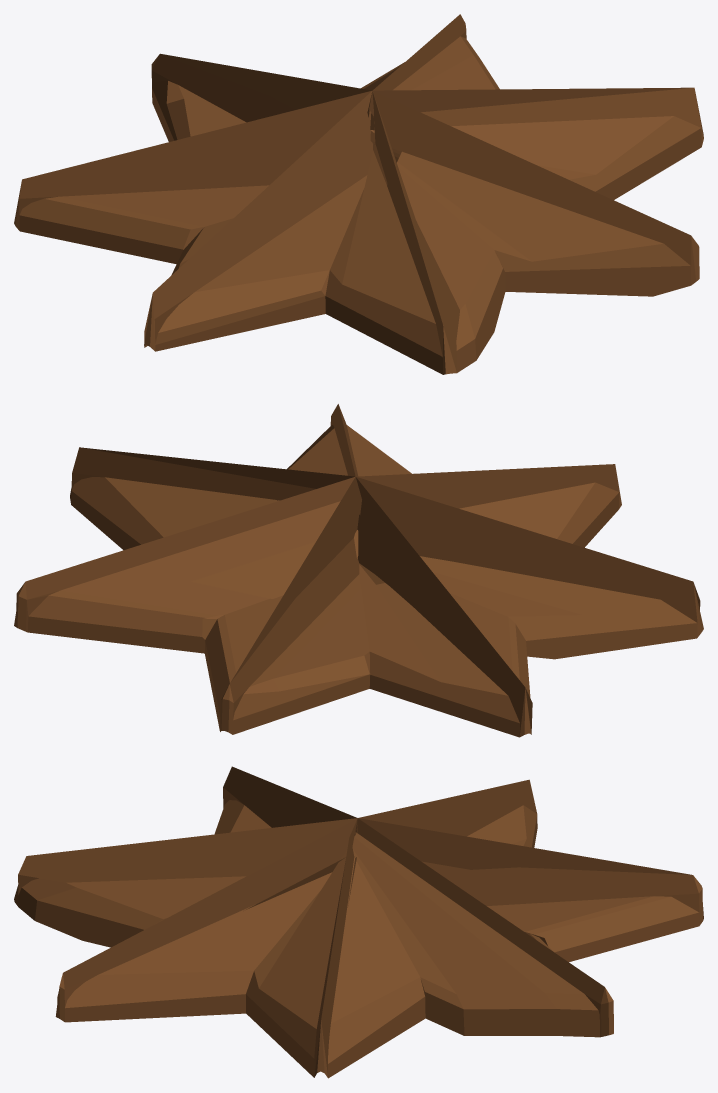
Rendered from toothmomiji.glb.
The picture shows the model from 3 angles, top to bottom: view 1: azimuth 30°, elevation 25°; view 2: azimuth 150°, elevation 25°; view 3: azimuth 270°, elevation 25°; orthographic projection. The views are drawn at different scales.
Visible parts, largest first — view 1: Circle.001; view 2: Circle.001; view 3: Circle.001.
Boxes of the visible parts, box(x1,y1,x2,y2) form: Circle.001: box(14, 14, 703, 374); Circle.001: box(14, 404, 703, 737); Circle.001: box(14, 766, 703, 1078).
Bounding box in the file's own units: 0.943 × 0.2107 × 0.9505.
